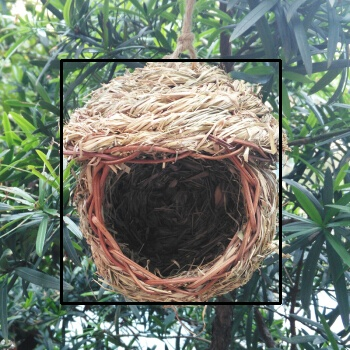bird-nest: (61, 60, 283, 305)
